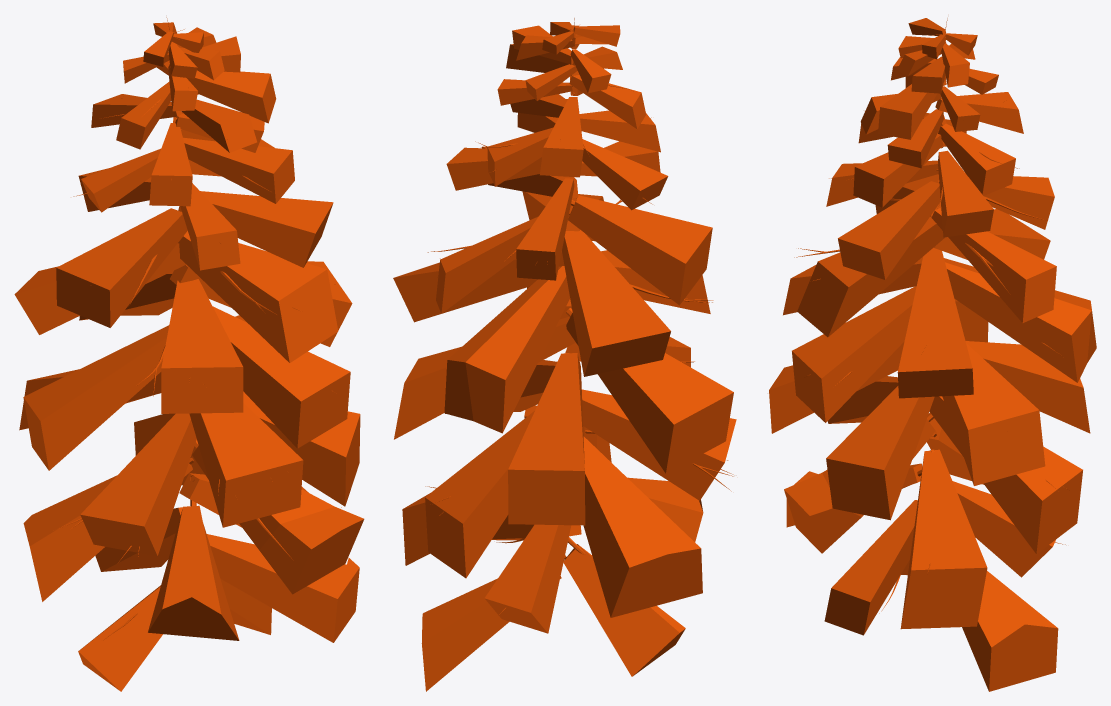
Rendered from tree-autumn-leaves-15-044.glb.
3 views of the same model, side by side, from view 1: azimuth 30°, elevation 25°; view 2: azimuth 150°, elevation 25°; view 3: azimuth 270°, elevation 25° (orthographic). The views are drawn at different scales.
Visible parts, largest first — view 1: TREE 15.008_390; view 2: TREE 15.008_390; view 3: TREE 15.008_390.
Boxes of the visible parts, left/top/right/bottom form: TREE 15.008_390: left=14, top=17, right=364, bottom=691; TREE 15.008_390: left=393, top=18, right=736, bottom=691; TREE 15.008_390: left=769, top=18, right=1096, bottom=691.
Bounding box in the file's own units: 0.8007 × 1.63 × 0.7878.
